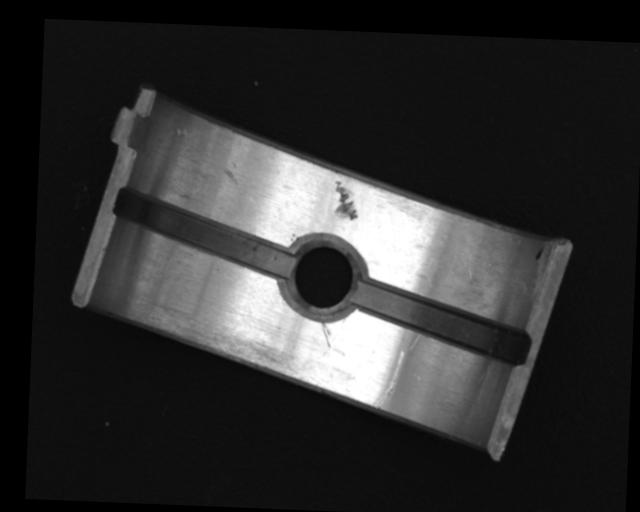blot: (534, 244, 545, 261)
bruise: (332, 179, 360, 222), (222, 161, 239, 185), (173, 126, 187, 137)
gap: (110, 188, 295, 282), (351, 276, 531, 366)
hole: (282, 236, 365, 319)
nick: (373, 347, 406, 409), (320, 322, 331, 348)
scratch: (123, 296, 298, 391)
